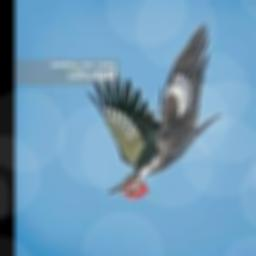Woodpecker: (86, 23, 222, 199)
